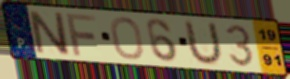3: (222, 24, 256, 69)
6: (145, 17, 180, 65)
F: (64, 11, 99, 58)
N: (25, 9, 73, 57)
O: (109, 16, 146, 62)
U: (183, 19, 224, 67)
